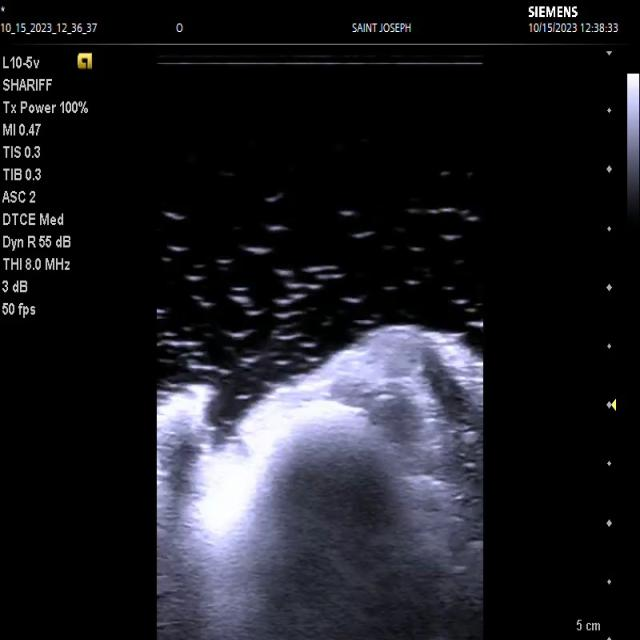tissue: (157, 326, 484, 640)
